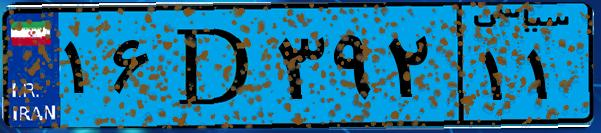1: (57, 26, 110, 100), (475, 38, 525, 113), (525, 38, 570, 115)
2: (385, 28, 445, 110)
3: (270, 28, 330, 110)
6: (110, 28, 158, 98)
9: (330, 28, 385, 110)
D: (158, 12, 270, 120)
